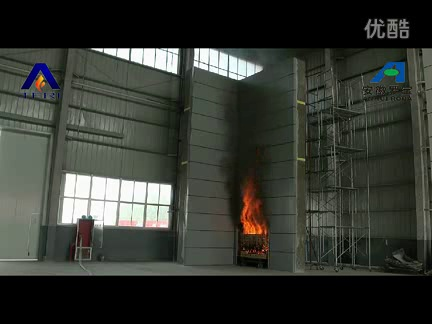fire: (241, 178, 269, 236)
